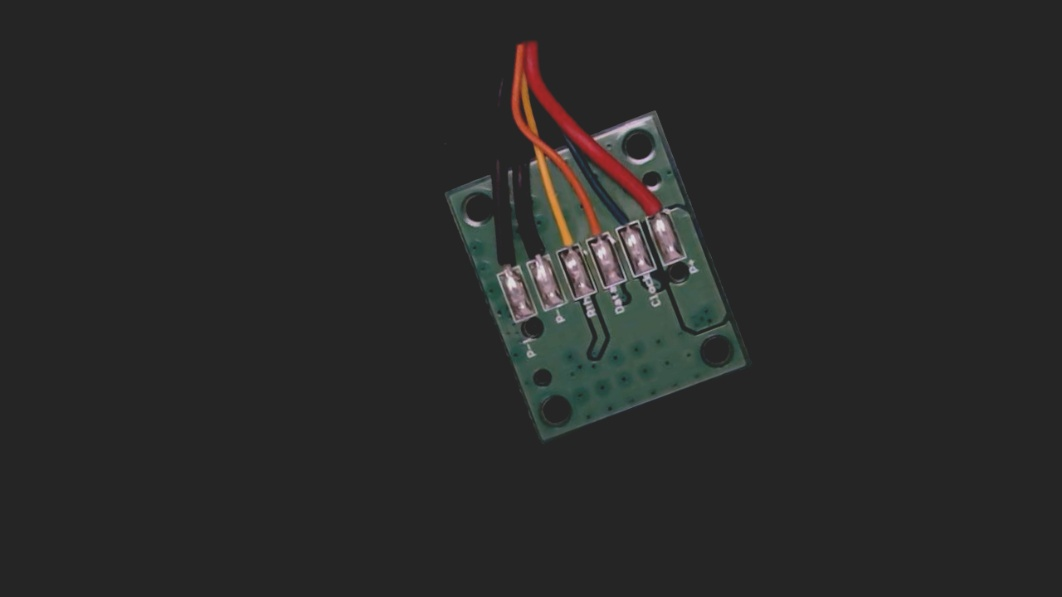Black: (510, 209, 557, 276)
Black1: (479, 225, 523, 287)
Green: (602, 191, 644, 245)
Orange: (569, 190, 614, 255)
Red: (630, 168, 676, 233)
Yellow: (539, 198, 586, 265)
